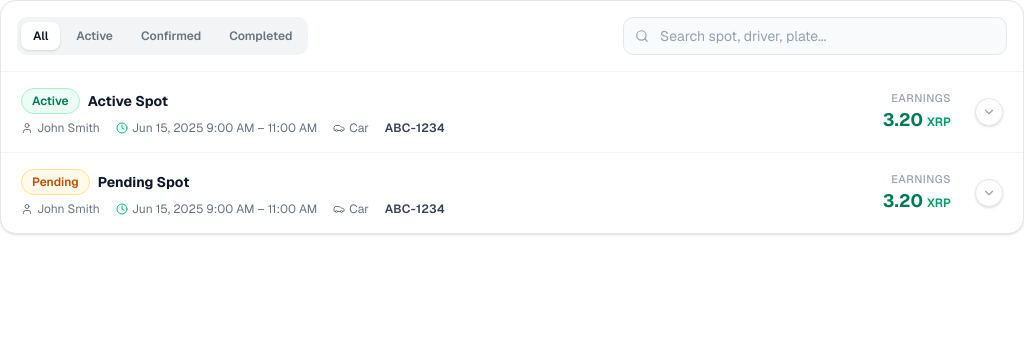
it: BookingList Component › Integration - Full Flow › filter then expand booking
Click the button "Active" at (95, 36), box 64,22 -> 125,50
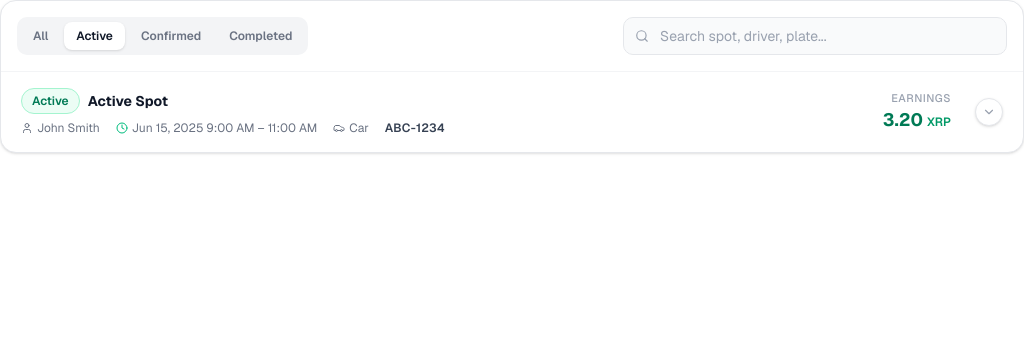
expect the heading "Pending Spot" is gone: met
Click the heading "Active Spot" at (128, 101), box 88,91 -> 168,111
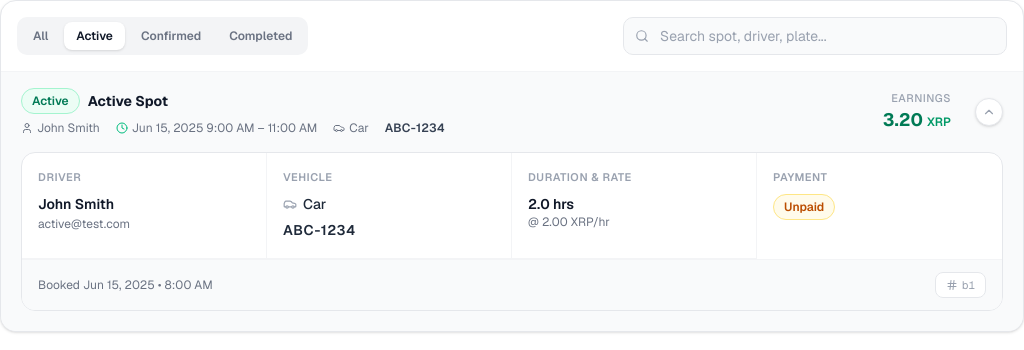
expect the text "active@test.com" is shown: met, box 38,216 -> 130,232
